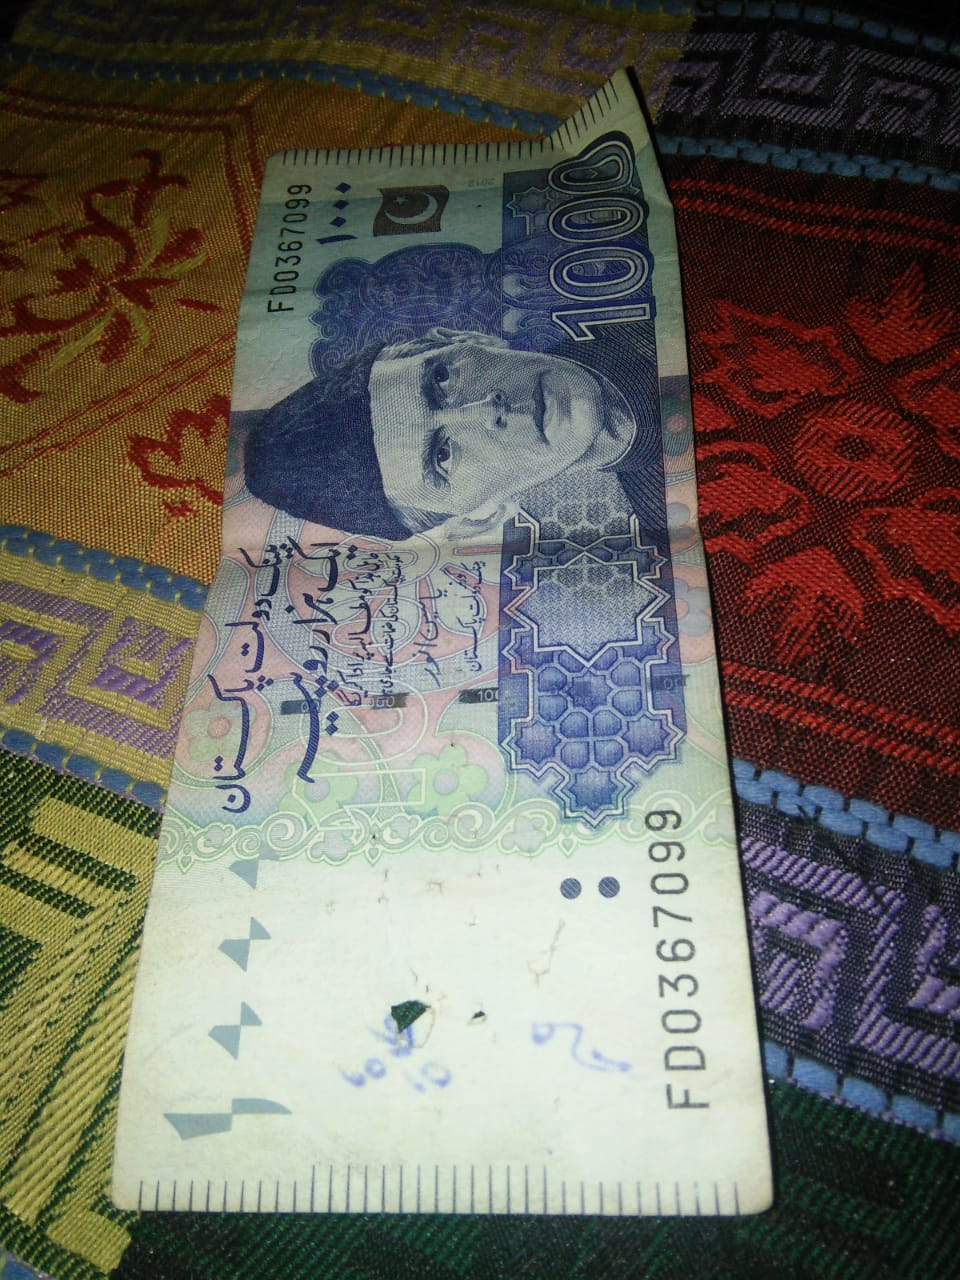1000 rupee: (140, 123, 771, 1217)
